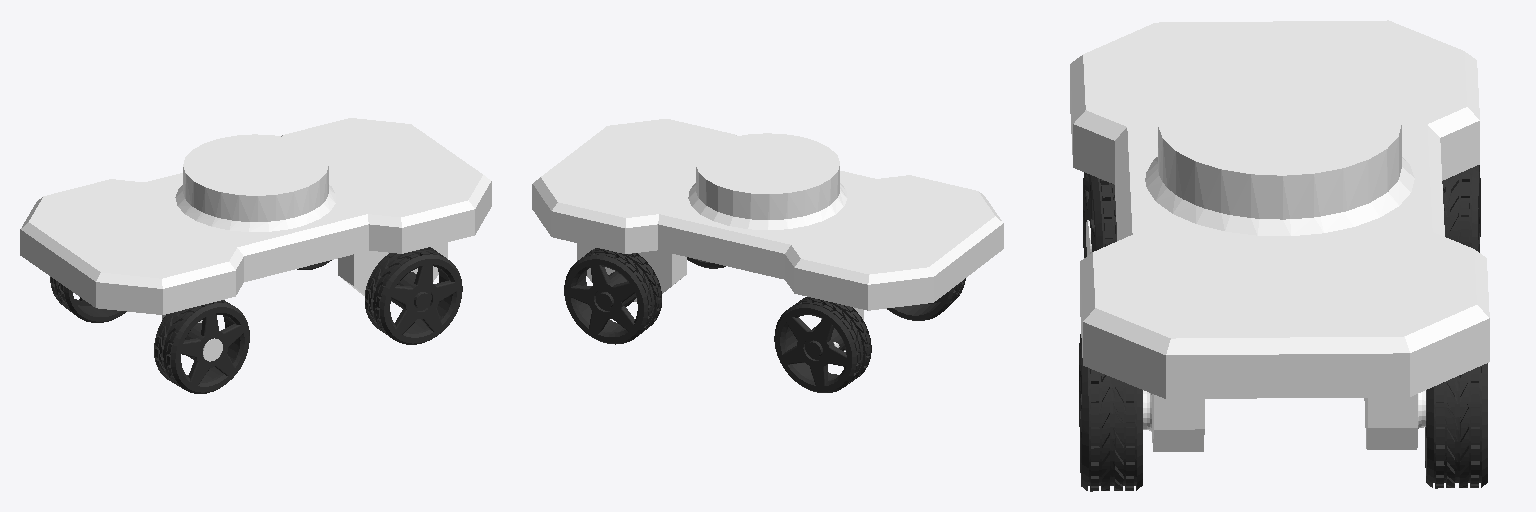
The robot description file, URDF, robot "car_assembly":
<?xml version="1.0" ?>
<!-- This URDF was automatically created by SolidWorks to URDF Exporter! Originally created by [author] ([email redacted]) 
     Commit Version: 1.6.0-4-g7f85cfe  Build Version: 1.6.7995.38578
     For more information, please see http://wiki.ros.org/sw_urdf_exporter -->
<robot
  name="car_assembly" xmlns:xacro="http://ros.org/wiki/xacro">
  <link
    name="base_link">
    <inertial>
      <origin
        xyz="0.0984933879187388 0.0524164095634679 0.139538868480493"
        rpy="0 0 0" />
      <mass
        value="42.437819295697" />
      <inertia
        ixx="0.793248965062798"
        ixy="-0.0438841068170687"
        ixz="0.12082958397428"
        iyy="2.9050823428007"
        iyz="0.00250976744462378"
        izz="3.47432493664263" />
    </inertial>
    <visual>
      <origin
        xyz="0 0 0"
        rpy="0 0 0" />
      <geometry>
        <mesh
          filename="package://car_assembly/meshes/base_link.STL" />
      </geometry>
      <material
        name="">
        <color
          rgba="1 1 1 1" />
      </material>
    </visual>
    <collision>
      <origin
        xyz="0 0 0"
        rpy="0 0 0" />
      <geometry>
        <mesh
          filename="package://car_assembly/meshes/base_link.STL" />
      </geometry>
    </collision>
  </link>
  <link
    name="back_left_wheel_link">
    <inertial>
      <origin
        xyz="2.20710116849432E-11 2.36282771126639E-10 0.0494452643769656"
        rpy="0 0 0" />
      <mass
        value="0.92951595082452" />
      <inertia
        ixx="0.00334561969767302"
        ixy="-1.3544059046352E-12"
        ixz="-4.94375218117616E-13"
        iyy="0.00334561968353542"
        iyz="-5.13247205017253E-12"
        izz="0.00569925253419484" />
    </inertial>
    <visual>
      <origin
        xyz="0 0 0"
        rpy="0 0 0" />
      <geometry>
        <mesh
          filename="package://car_assembly/meshes/back_left_wheel_link.STL" />
      </geometry>
      <material
        name="">
        <color
          rgba="0.250980392156863 0.250980392156863 0.250980392156863 1" />
      </material>
    </visual>
    <collision>
      <origin
        xyz="0 0 0"
        rpy="0 0 0" />
      <geometry>
        <mesh
          filename="package://car_assembly/meshes/back_left_wheel_link.STL" />
      </geometry>
    </collision>
  </link>
  <joint
    name="back_left_wheel_joint"
    type="continuous">
    <origin
      xyz="0.328921249974496 -0.114964083839878 -0.0177944693206667"
      rpy="-1.5707963267949 0.469083696110007 -3.12082450627461" />
    <parent
      link="base_link" />
    <child
      link="back_left_wheel_link" />
    <axis
      xyz="0 0 1" />
  </joint>
  <link
    name="back_right_wheel_link">
    <inertial>
      <origin
        xyz="2.20231055614306E-11 2.37201022712519E-10 0.049028557176643"
        rpy="0 0 0" />
      <mass
        value="0.929515950065346" />
      <inertia
        ixx="0.00334561969632988"
        ixy="-1.3558819778657E-12"
        ixz="-4.94323420358826E-13"
        iyy="0.0033456196821762"
        iyz="-5.15615434260063E-12"
        izz="0.00569925253212831" />
    </inertial>
    <visual>
      <origin
        xyz="0 0 0"
        rpy="0 0 0" />
      <geometry>
        <mesh
          filename="package://car_assembly/meshes/back_right_wheel_link.STL" />
      </geometry>
      <material
        name="">
        <color
          rgba="0.250980392156863 0.250980392156863 0.250980392156863 1" />
      </material>
    </visual>
    <collision>
      <origin
        xyz="0 0 0"
        rpy="0 0 0" />
      <geometry>
        <mesh
          filename="package://car_assembly/meshes/back_right_wheel_link.STL" />
      </geometry>
    </collision>
  </link>
  <joint
    name="back_right_wheel_joint"
    type="continuous">
    <origin
      xyz="0.321763483964631 0.229637520986015 -0.0177944693206667"
      rpy="1.5707963267949 -0.291614530450468 -3.12082450627461" />
    <parent
      link="base_link" />
    <child
      link="back_right_wheel_link" />
    <axis
      xyz="0 0 1" />
  </joint>
  <link
    name="front_left_steer_link">
    <inertial>
      <origin
        xyz="1.66547595339128E-05 0.0339902371024883 0.00881686935201453"
        rpy="0 0 0" />
      <mass
        value="0.979289581300228" />
      <inertia
        ixx="0.00377322325335636"
        ixy="8.43295143974749E-07"
        ixz="-9.37539386378859E-07"
        iyy="0.00118944602853968"
        iyz="0.000447122954117804"
        izz="0.00324735803538192" />
    </inertial>
    <visual>
      <origin
        xyz="0 0 0"
        rpy="0 0 0" />
      <geometry>
        <mesh
          filename="package://car_assembly/meshes/front_left_steer_link.STL" />
      </geometry>
      <material
        name="">
        <color
          rgba="1 1 1 1" />
      </material>
    </visual>
    <collision>
      <origin
        xyz="0 0 0"
        rpy="0 0 0" />
      <geometry>
        <mesh
          filename="package://car_assembly/meshes/front_left_steer_link.STL" />
      </geometry>
    </collision>
  </link>
  <joint
    name="front_left_steer_joint"
    type="revolute">
    <origin
      xyz="-0.17971 -0.089917 0"
      rpy="1.5708 0 0.094044" />
    <parent
      link="base_link" />
    <child
      link="front_left_steer_link" />
    <axis
      xyz="0 1 0" />
    <limit
      lower="-0.785"
      upper="0.785"
      effort="100"
      velocity="3.14" />
  </joint>
  <link
    name="front_left_wheel_link">
    <inertial>
      <origin
        xyz="-2.14738699044759E-10 -1.01100947058619E-10 0.0703981423141871"
        rpy="0 0 0" />
      <mass
        value="0.929515950960186" />
      <inertia
        ixx="0.00334561968624407"
        ixy="-5.5323038334213E-12"
        ixz="4.6719790579644E-12"
        iyy="0.00334561969544726"
        iyz="2.1830288634726E-12"
        izz="0.00569925253456414" />
    </inertial>
    <visual>
      <origin
        xyz="0 0 0"
        rpy="0 0 0" />
      <geometry>
        <mesh
          filename="package://car_assembly/meshes/front_left_wheel_link.STL" />
      </geometry>
      <material
        name="">
        <color
          rgba="0.250980392156863 0.250980392156863 0.250980392156863 1" />
      </material>
    </visual>
    <collision>
      <origin
        xyz="0 0 0"
        rpy="0 0 0" />
      <geometry>
        <mesh
          filename="package://car_assembly/meshes/front_left_wheel_link.STL" />
      </geometry>
    </collision>
  </link>
  <joint
    name="front_left_wheel_joint"
    type="continuous">
    <origin
      xyz="0.000125211657348218 -0.0177944693206653 0.014651735605834"
      rpy="0 0 -2.49079241735017" />
    <parent
      link="front_left_steer_link" />
    <child
      link="front_left_wheel_link" />
    <axis
      xyz="0 0 1" />
  </joint>
  <link
    name="front_right_steer_link">
    <inertial>
      <origin
        xyz="0.00126307247469412 0.0339902372861786 0.00872594484877132"
        rpy="0 0 0" />
      <mass
        value="0.9792895843257" />
      <inertia
        ixx="0.00376244872178771"
        ixy="6.40518802839026E-05"
        ixz="-7.4503324424236E-05"
        iyy="0.00118944602891897"
        iyz="0.000442512140457697"
        izz="0.003258132588816" />
    </inertial>
    <visual>
      <origin
        xyz="0 0 0"
        rpy="0 0 0" />
      <geometry>
        <mesh
          filename="package://car_assembly/meshes/front_right_steer_link.STL" />
      </geometry>
      <material
        name="">
        <color
          rgba="1 1 1 1" />
      </material>
    </visual>
    <collision>
      <origin
        xyz="0 0 0"
        rpy="0 0 0" />
      <geometry>
        <mesh
          filename="package://car_assembly/meshes/front_right_steer_link.STL" />
      </geometry>
    </collision>
  </link>
  <joint
    name="front_right_steer_joint"
    type="revolute">
    <origin
      xyz="-0.18538 0.18307 0"
      rpy="1.5708 0 3.1235" />
    <parent
      link="base_link" />
    <child
      link="front_right_steer_link" />
    <axis
      xyz="0 1 0" />
    <limit
      lower="-0.785"
      upper="0.785"
      effort="100"
      velocity="3.14" />
  </joint>
  <link
    name="front_right_wheel_link">
    <inertial>
      <origin
        xyz="0.0109238220794718 0.00502372733917364 0.042877854866294"
        rpy="0 0 0" />
      <mass
        value="0.92951595459559" />
      <inertia
        ixx="0.00338445542348172"
        ixy="1.78600464053296E-05"
        ixz="0.000299295584991618"
        iyy="0.00335383331665573"
        iyz="0.000137642239695159"
        izz="0.00565220320828645" />
    </inertial>
    <visual>
      <origin
        xyz="0 0 0"
        rpy="0 0 0" />
      <geometry>
        <mesh
          filename="package://car_assembly/meshes/front_right_wheel_link.STL" />
      </geometry>
      <material
        name="">
        <color
          rgba="0.250980392156863 0.250980392156863 0.250980392156863 1" />
      </material>
    </visual>
    <collision>
      <origin
        xyz="0 0 0"
        rpy="0 0 0" />
      <geometry>
        <mesh
          filename="package://car_assembly/meshes/front_right_wheel_link.STL" />
      </geometry>
    </collision>
  </link>
  <joint
    name="front_right_wheel_joint"
    type="continuous">
    <origin
      xyz="0.000125211657348301 -0.0177944693206666 0.0412999511488255"
      rpy="0 0 -0.431045729807837" />
    <parent
      link="front_right_steer_link" />
    <child
      link="front_right_wheel_link" />
    <axis
      xyz="0 0 1" />
  </joint>

  <ros2_control name="GazeboSystem" type="system">
  <hardware>
      <plugin>gazebo_ros2_control/GazeboSystem</plugin>
  </hardware>

  <!-- Velocity Controllers -->
  <!-- Back wheels -->
  <joint name="back_right_wheel_joint">
      <command_interface name="velocity">
          <param name="min">-1000.0</param>
          <param name="max">1000.0</param>
      </command_interface>
      <state_interface name="position"/>
      <state_interface name="velocity"/>
  </joint>

  <joint name="back_left_wheel_joint">
      <command_interface name="velocity">
          <param name="min">-1000.0</param>
          <param name="max">1000.0</param>
      </command_interface>
      <state_interface name="position"/>
      <state_interface name="velocity"/>
  </joint>

  <!-- Front Wheels -->
  <joint name="front_right_wheel_joint">
      <command_interface name="velocity">
          <param name="min">-1000.0</param>
          <param name="max">1000.0</param>
      </command_interface>
      <state_interface name="position"/>
      <state_interface name="velocity"/>
  </joint>

  <joint name="front_left_wheel_joint">
      <command_interface name="velocity">
          <param name="min">-1000.0</param>
          <param name="max">1000.0</param>
      </command_interface>
      <state_interface name="position"/>
      <state_interface name="velocity"/>
  </joint>


  <!-- Position Controllers -->
  <joint name="front_left_steer_joint">
      <command_interface name="position">
          <param name="min">-3.14</param>
          <param name="max">3.14</param>
      </command_interface>
      <state_interface name="position"/>
      <state_interface name="velocity"/>
  </joint>

  <joint name="front_left_steer_joint">
      <command_interface name="position">
          <param name="min">-3.14</param>
          <param name="max">3.14</param>
      </command_interface>
      <state_interface name="position"/>
      <state_interface name="velocity"/>
  </joint>

 </ros2_control>

</robot>

--- Render facts (derived) ---
The picture shows the robot from 3 angles, left to right: view 1: azimuth 30°, elevation 25°; view 2: azimuth 150°, elevation 25°; view 3: azimuth 270°, elevation 25°; orthographic projection.
Robot: car_assembly — 7 links, 6 joints (2 revolute, 4 continuous); root link base_link; default pose: every joint at zero.
Visible links, largest first — view 1: base_link, back_left_wheel_link, front_left_wheel_link, front_right_wheel_link; view 2: base_link, back_right_wheel_link, front_right_wheel_link, front_left_wheel_link; view 3: base_link, back_left_wheel_link, back_right_wheel_link, front_right_wheel_link, front_left_wheel_link.
Link boxes in pixels (x1,y1,x2,y2): base_link: (20, 118, 491, 314); back_left_wheel_link: (365, 247, 462, 344); front_left_wheel_link: (154, 300, 249, 393); front_right_wheel_link: (50, 277, 126, 322); base_link: (532, 119, 1003, 310); back_right_wheel_link: (564, 248, 661, 344); front_right_wheel_link: (774, 297, 871, 392); front_left_wheel_link: (887, 278, 965, 320); base_link: (1070, 20, 1489, 451); back_left_wheel_link: (1079, 334, 1142, 491); back_right_wheel_link: (1425, 363, 1487, 488); front_right_wheel_link: (1442, 165, 1480, 252); front_left_wheel_link: (1083, 172, 1116, 257).
Bounding box of the posed robot: 0.9713 × 0.5237 × 0.3747 m (x, y, z).
Meshes: 7 distinct files referenced, 7 mesh visuals loaded (7 binary STL).
